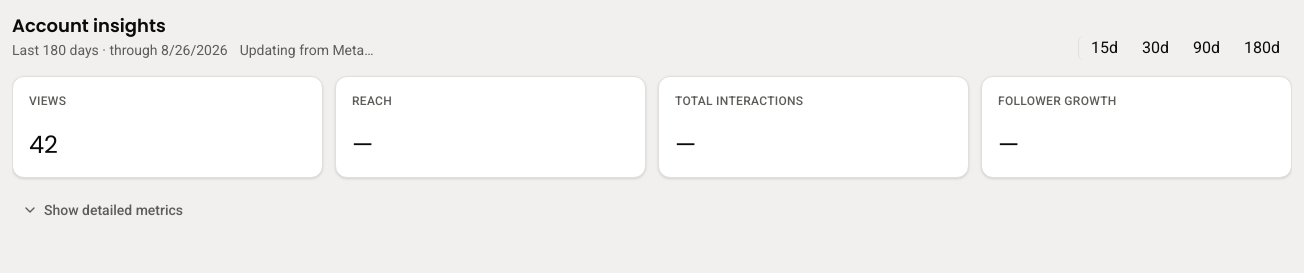
Test: IgAccountInsightsPanel › explains a range that has no snapshot yet
Click the radio button labelled "30d".
click(1156, 48)  # box x1=1130 y1=36 x2=1181 y2=60
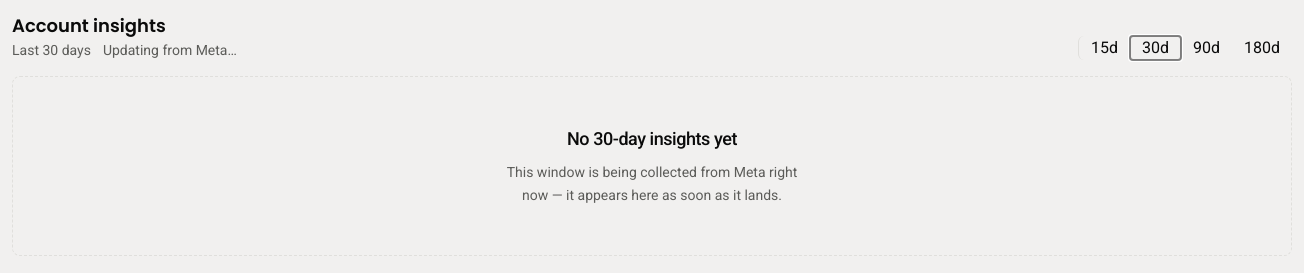
Now the text "No 30-day insights yet" is shown, box x1=567 y1=125 x2=737 y2=153
